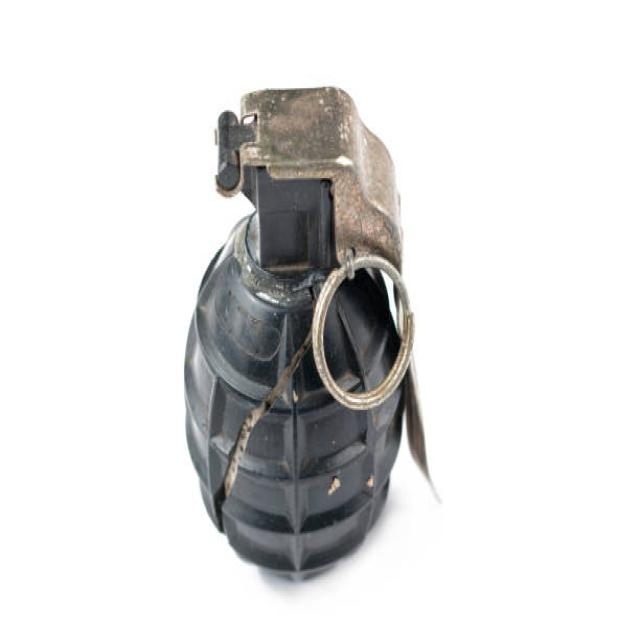grenade: (182, 77, 444, 591)
